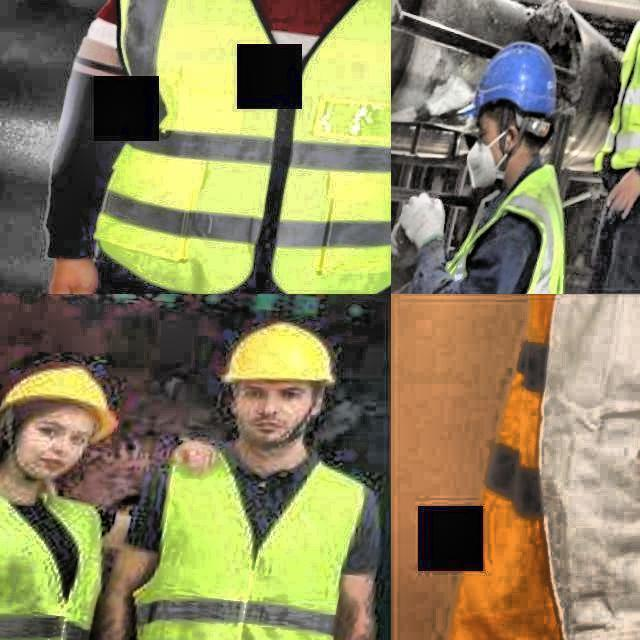safety_jacket: (74, 0, 391, 294), (457, 294, 640, 640), (126, 436, 379, 640), (411, 159, 588, 294), (0, 477, 122, 640), (588, 0, 640, 178)
